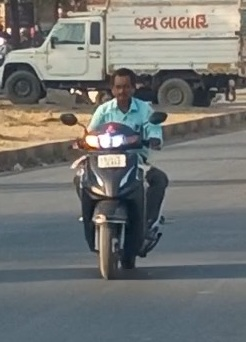BikeWithRider: (55, 64, 177, 282)
NoHelmet: (106, 65, 141, 103)
